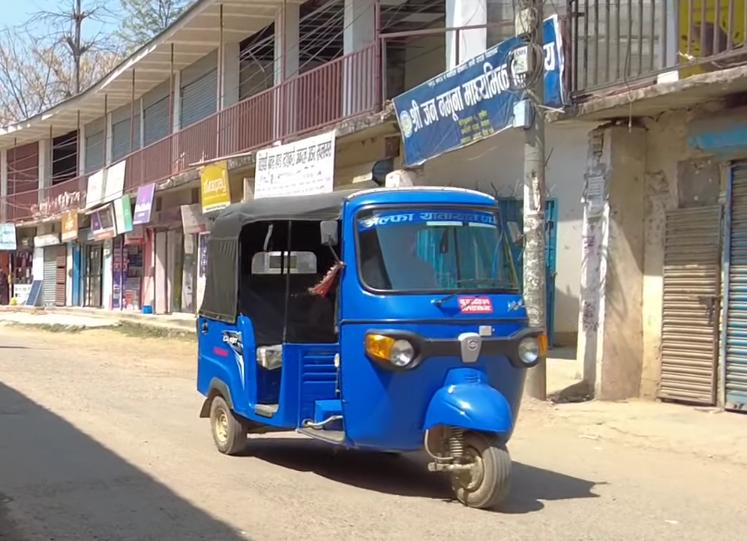auto_rickshaw: (192, 185, 548, 514)
